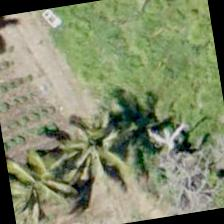Kelapa_Sawit: (53, 95, 156, 198), (2, 122, 102, 223), (103, 0, 201, 51)
